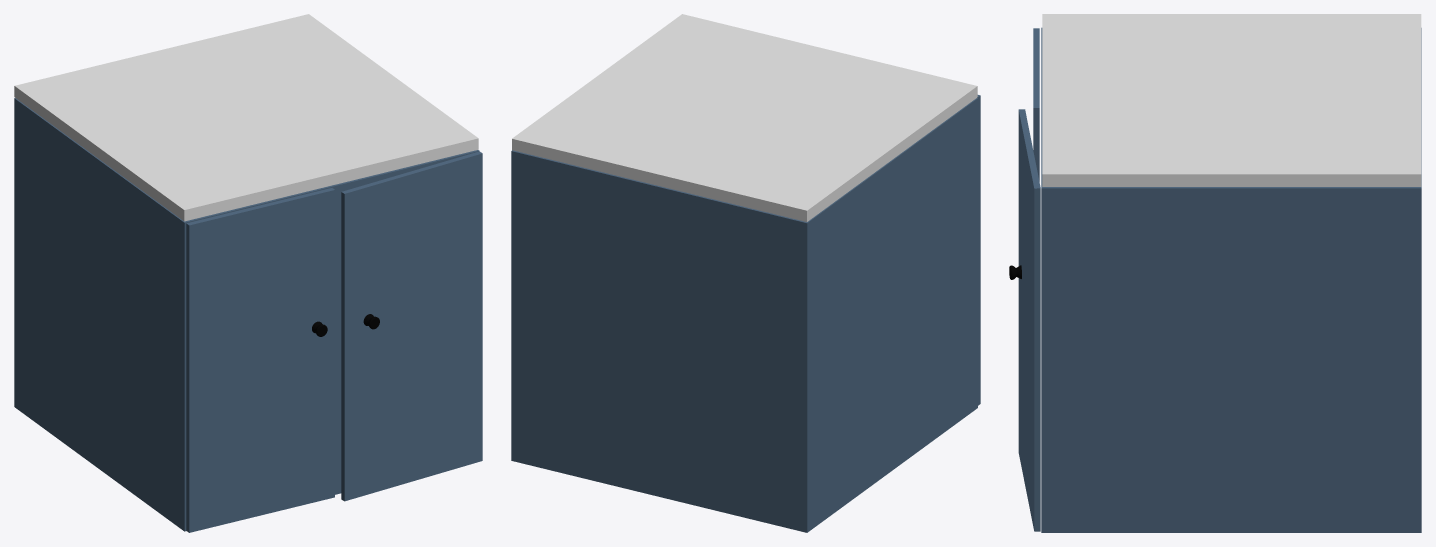
The model's file is tumba.fbx.
3 renders of one model, left to right at view 1: azimuth 30°, elevation 25°; view 2: azimuth 150°, elevation 25°; view 3: azimuth 270°, elevation 25°, orthographic. The views are drawn at different scales.
Visible parts, largest first — view 1: Cube.004, stolesniza.004, DOOR.008, DOOR.009; view 2: Cube.004, stolesniza.004, DOOR.008; view 3: Cube.004, stolesniza.004, DOOR.009, DOOR.008.
Part boxes in pixels (x1,y1,x2,y2): Cube.004: (14,98,479,531); stolesniza.004: (14,14,478,221); DOOR.008: (186,188,334,532); DOOR.009: (341,151,482,501); Cube.004: (511,98,977,532); stolesniza.004: (512,14,977,221); DOOR.008: (977,95,980,405); Cube.004: (1041,27,1421,532); stolesniza.004: (1042,14,1421,186); DOOR.009: (1018,109,1040,531); DOOR.008: (1033,28,1039,181).
Size of the model in its own units: 1974 by 2053 by 2142.
